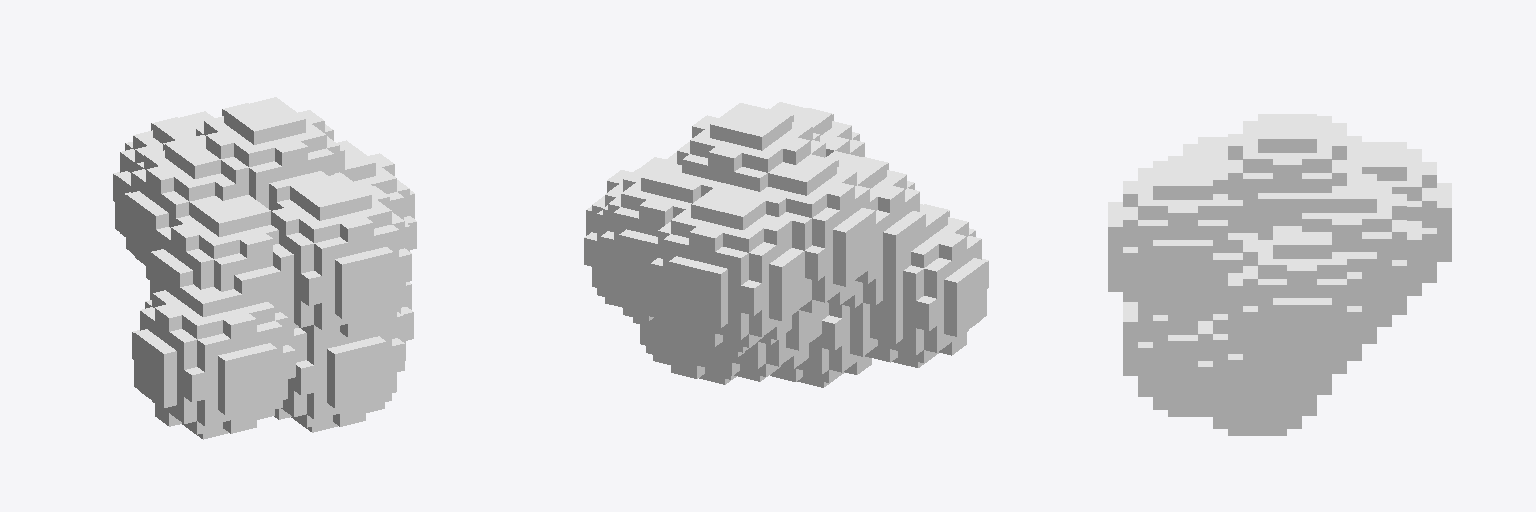
The model's file is SmallRock.obj.
3 views of the same model, side by side, from view 1: azimuth 30°, elevation 25°; view 2: azimuth 150°, elevation 25°; view 3: azimuth 270°, elevation 25° (orthographic).
Parts seen in each view (by area): view 1: SmallRock; view 2: SmallRock; view 3: SmallRock.
Part boxes in pixels (x1,y1,x2,y2): SmallRock: (113,97,416,439); SmallRock: (584,102,988,387); SmallRock: (1108,114,1451,435).
Size of the model in its own units: 24 by 20 by 23.